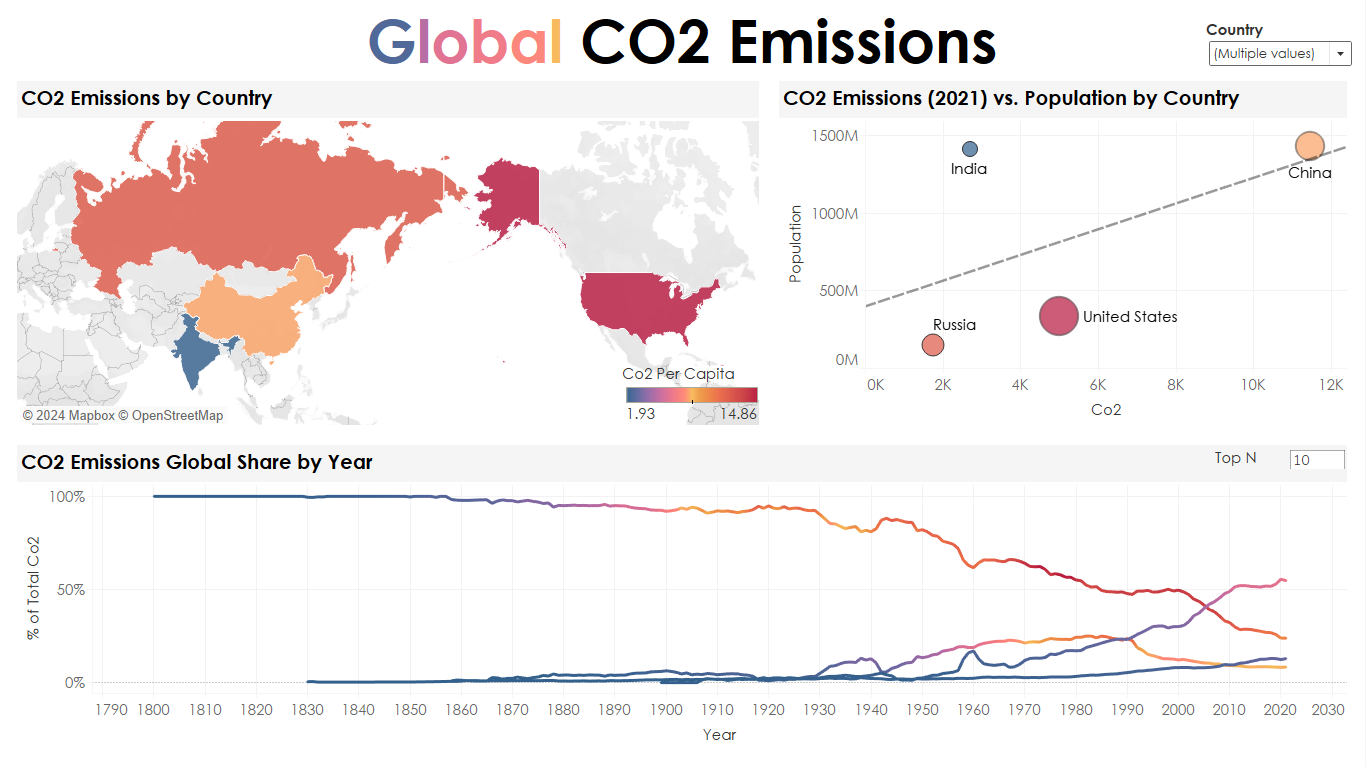

The dashboard page shown, as its layout file describes it:
{"tool":"tableau","page":{"name":"Global CO2 Emissions","canvas":[1366,768],"ordinal":0},"visuals":[{"type":"text","box":[8,8,1350,63.2]},{"type":"filter","title":"Map","param":"[federated.0qpziib1qk9rpu12heb5i0mj1wvz].[none:Country (copy)_124721568004842700","box":[1207,20,149,48]},{"type":"worksheet","title":"Map","mark":"Automatic","box":[8,71.2,762,363.8]},{"type":"worksheet","title":"Scatter Plot","mark":"Circle","rows":["population"],"cols":["co2"],"box":[770,71.2,588,363.8]},{"type":"legend","title":"Map","param":"[federated.0qpziib1qk9rpu12heb5i0mj1wvz].[sum:co2_per_capita:qk]","box":[623,364,140,64]},{"type":"worksheet","title":"Line Chart","mark":"Automatic","cols":["year"],"box":[8,435,1350,325]},{"type":"parameter","param":"[Parameters].[Parameter 1]","box":[1216,447,133,22]}]}

Visuals, with their boxes in screenshot pixels (x1, y1, x2, y2), scaled from the page's 1366x768 canvas onto the 1366x767 screenshot:
text: [8,8,1358,71]
"Map" filter: [1207,20,1356,68]
"Map" worksheet: [8,71,770,434]
"Scatter Plot" worksheet (Circle marks): [770,71,1358,434]
"Map" legend: [623,364,763,427]
"Line Chart" worksheet: [8,434,1358,759]
parameter: [1216,446,1349,468]
